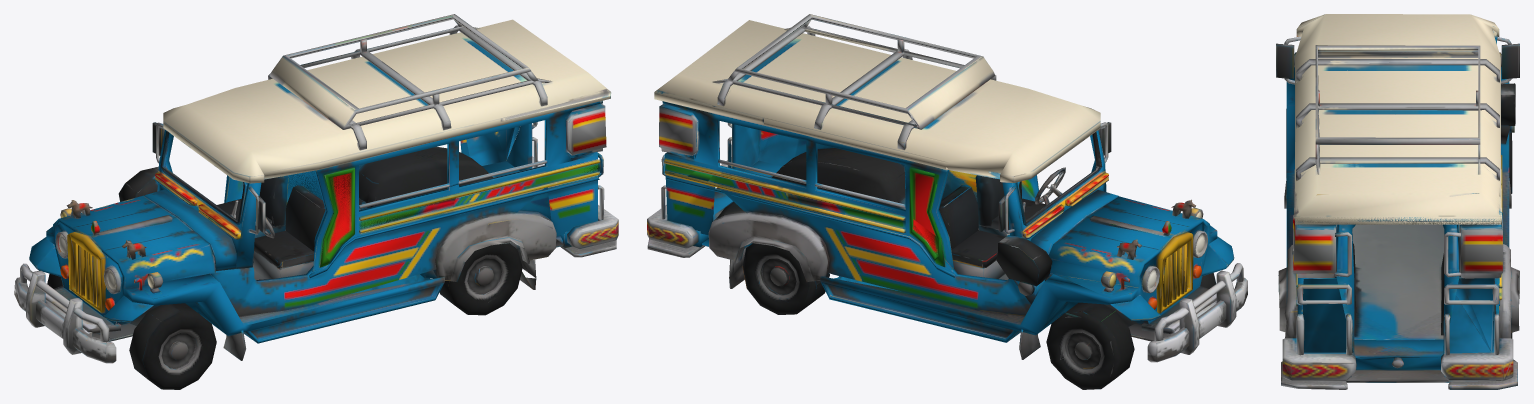
The model's file is Jeepney.glb.
The picture shows the model from 3 angles, left to right: view 1: azimuth 30°, elevation 25°; view 2: azimuth 150°, elevation 25°; view 3: azimuth 270°, elevation 25°; orthographic projection. The views are drawn at different scales.
Bounding box in the file's own units: 0.9521 × 0.3921 × 0.3452.
Materials: 1 (1 with a texture image).
